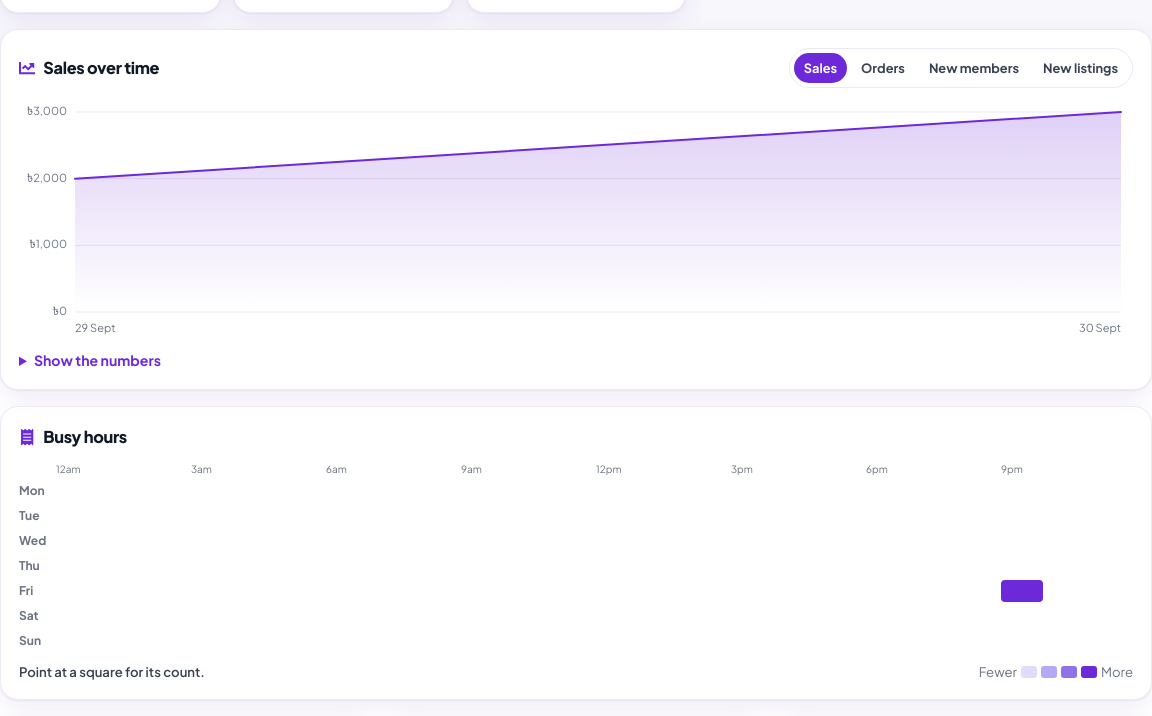
Scenario: the shop analytics › keeps the numbers in a table as well as a chart
(page scrolled)
Click the heading "Show the numbers".
click(97, 360)  # box [34,351,161,369]
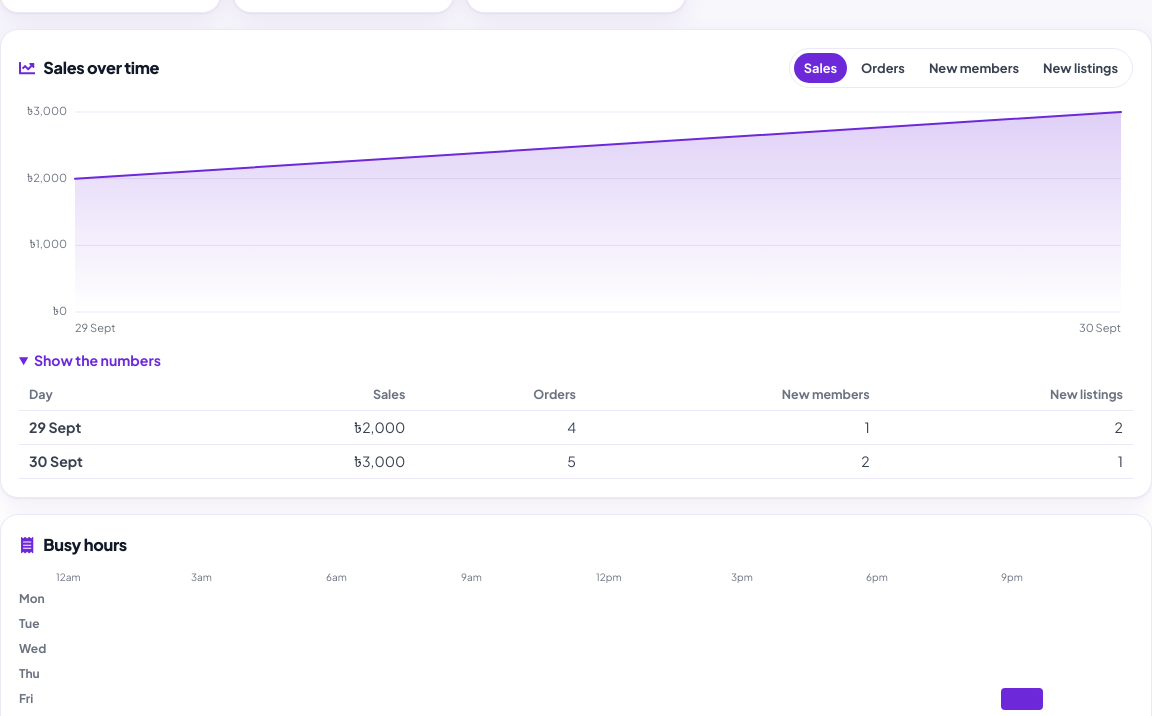
expect the column heading "30 Sept" is shown: met, box [19,445,220,479]
expect the text "৳3,000" is shown: met, box [220,445,415,479]
